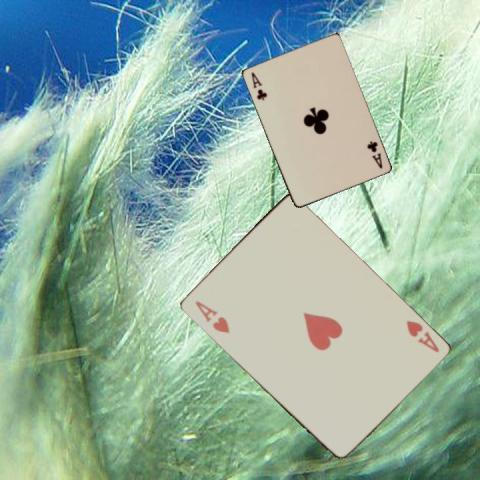Ac: (248, 70, 268, 102), (364, 138, 383, 170)
Ah: (191, 298, 231, 336), (403, 317, 440, 354)
